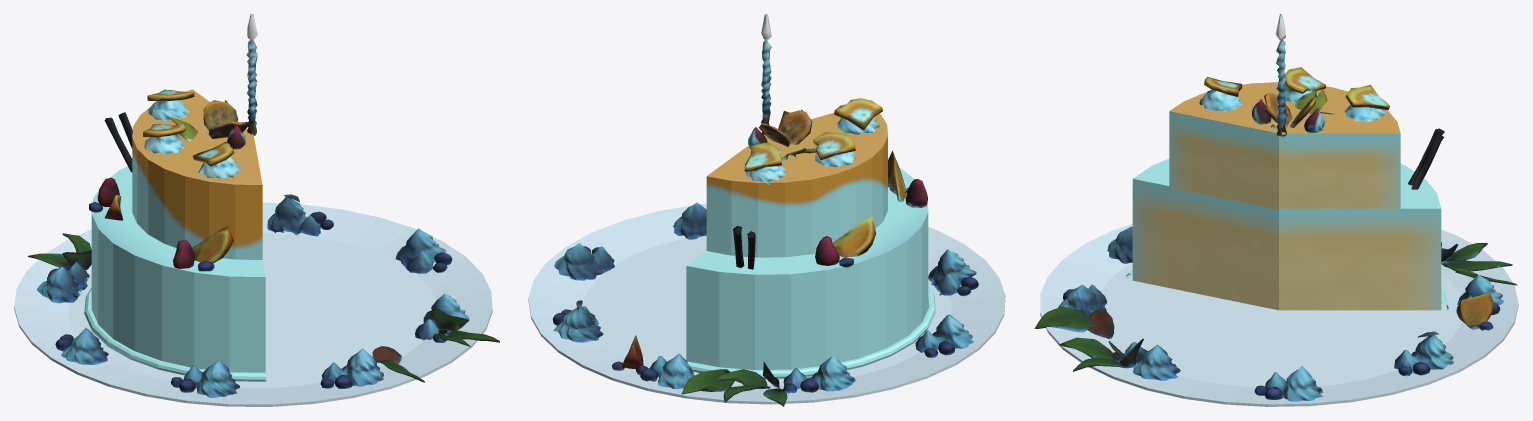
The model's file is denia_cake_4.obj.
3 renders of one model, left to right at view 1: azimuth 30°, elevation 25°; view 2: azimuth 150°, elevation 25°; view 3: azimuth 270°, elevation 25°, orthographic.
Visible parts, largest first — view 1: cake; view 2: cake; view 3: cake.
Part boxes in pixels (<box>): cake: <box>14,14,499,406</box>; cake: <box>528,14,1005,406</box>; cake: <box>1034,14,1518,406</box>.
Bounding box in the file's own units: 0.959 × 0.6594 × 0.9697.
